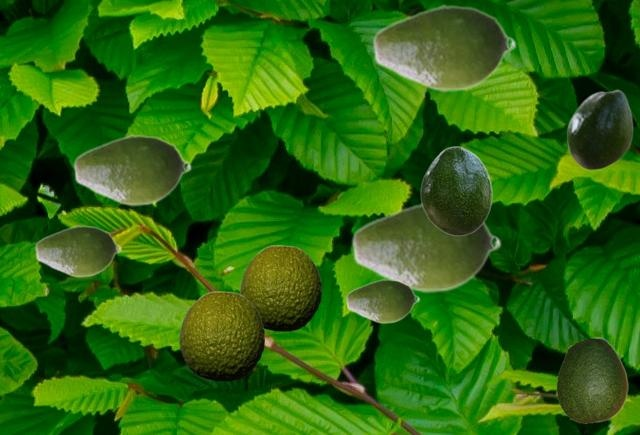avocado: (350, 201, 501, 293), (371, 3, 516, 92), (72, 133, 191, 206), (179, 291, 263, 380), (240, 245, 320, 330), (420, 146, 491, 235), (556, 337, 627, 422), (566, 89, 632, 169), (34, 224, 121, 277), (345, 278, 419, 323)
